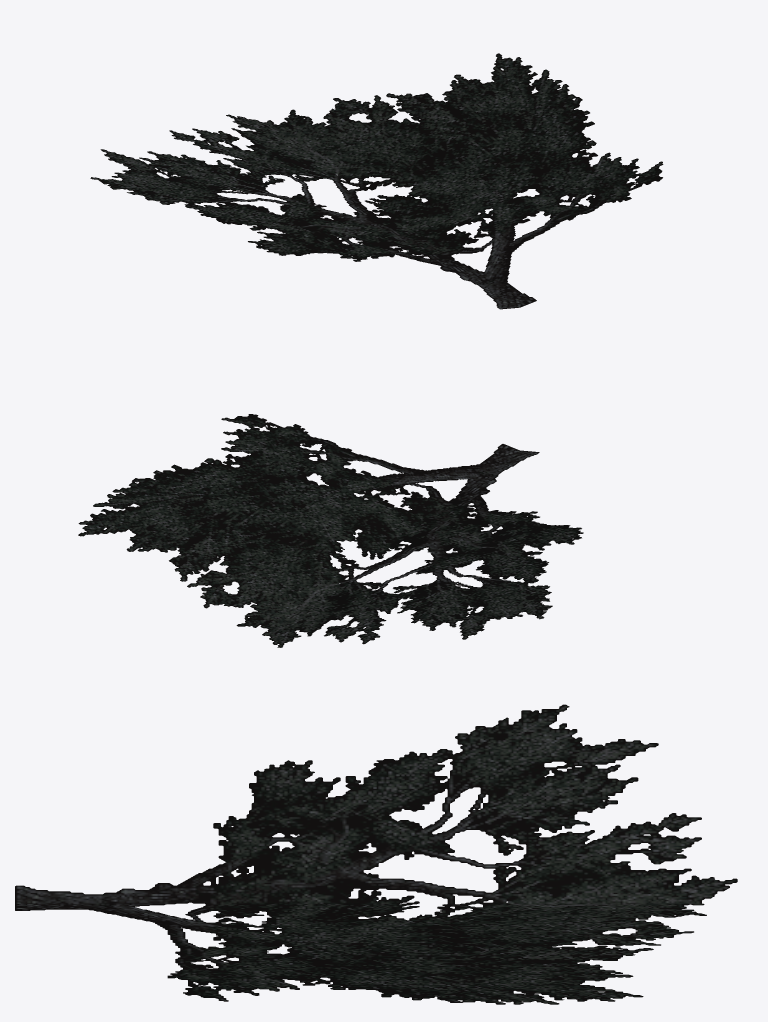
The model's file is SM_EC_Tree_Card_Bent_10.fbx.
3 views of the same model, one above another, from view 1: azimuth 30°, elevation 25°; view 2: azimuth 150°, elevation 25°; view 3: azimuth 270°, elevation 25° (orthographic). The views are drawn at different scales.
Visible parts, largest first — view 1: SM_EC_Tree_Card_Bent_10; view 2: SM_EC_Tree_Card_Bent_10; view 3: SM_EC_Tree_Card_Bent_10.
Boxes of the visible parts, <box> form: SM_EC_Tree_Card_Bent_10: <box>90,53,663,309</box>; SM_EC_Tree_Card_Bent_10: <box>78,414,583,647</box>; SM_EC_Tree_Card_Bent_10: <box>15,704,737,1004</box>.
Bounding box in the file's own units: 4.49 × 4.54 × 0.3409.
